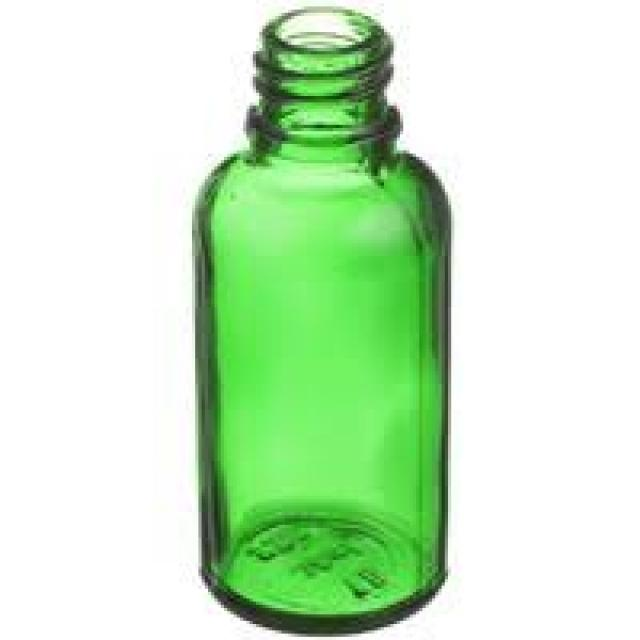Glass-Non-Biodegradable but Recyclable-: (191, 28, 452, 634)
